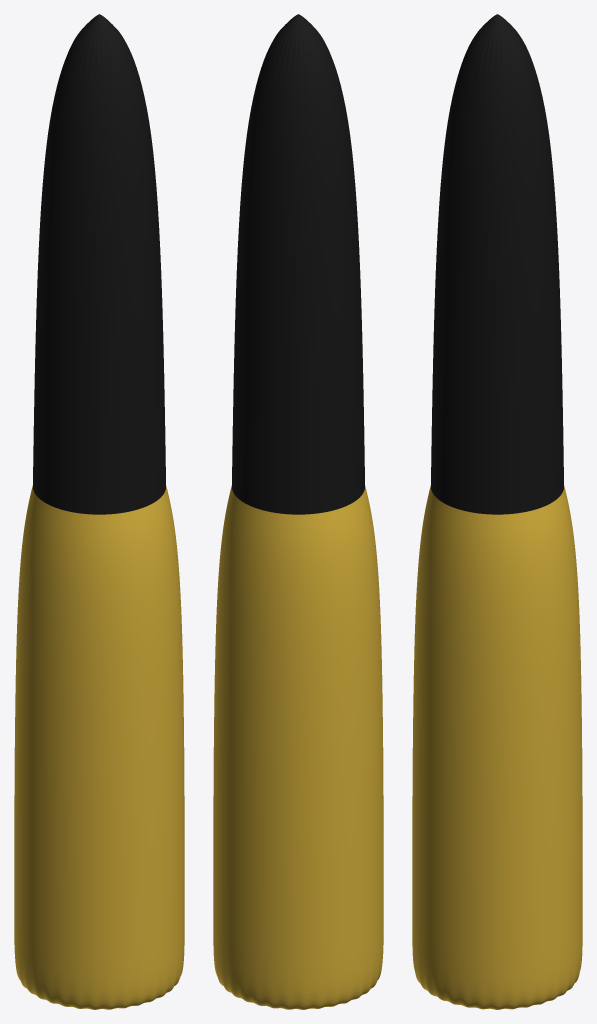
The model's file is light-cannon-shell.glb.
3 renders of one model, left to right at view 1: azimuth 30°, elevation 25°; view 2: azimuth 150°, elevation 25°; view 3: azimuth 270°, elevation 25°, orthographic.
Parts seen in each view (by area): view 1: Shell; view 2: Shell; view 3: Shell.
Boxes of the visible parts, left/top/right/bottom form: Shell: left=14, top=14, right=184, bottom=1009; Shell: left=213, top=14, right=383, bottom=1009; Shell: left=412, top=14, right=582, bottom=1009.
Bounding box in the file's own units: 0.719 × 4.49 × 0.719.
